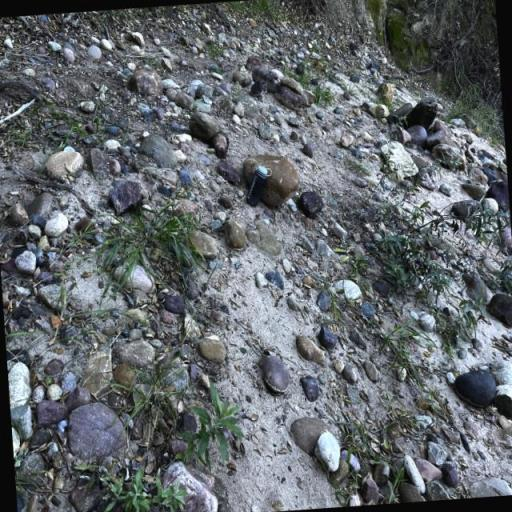bottle: (244, 164, 274, 206)
